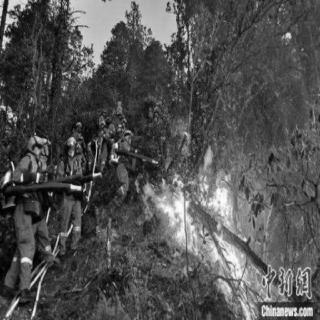Fire: (141, 144, 260, 316)
